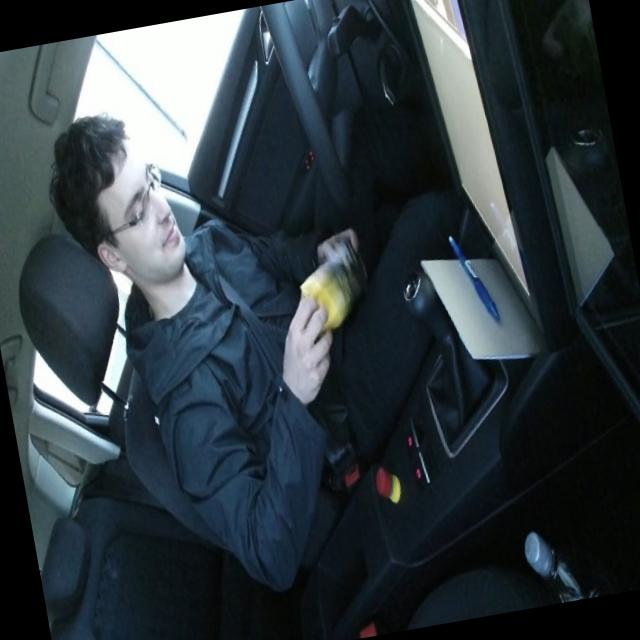pen: (446, 225, 501, 328)
